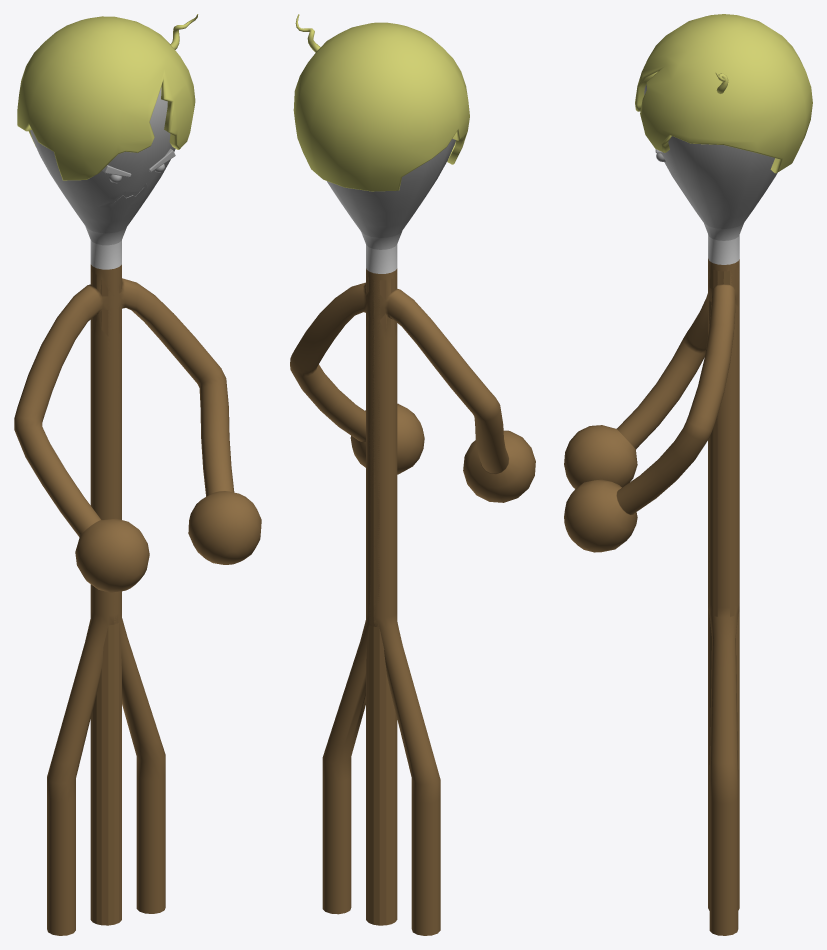
Rendered from Enemy_EarPick.fbx.
The picture shows the model from 3 angles, left to right: view 1: azimuth 30°, elevation 25°; view 2: azimuth 150°, elevation 25°; view 3: azimuth 270°, elevation 25°; orthographic projection.
Parts seen in each view (by area): view 1: Body, Hair, Just_EarPick; view 2: Body, Hair, Just_EarPick; view 3: Body, Hair, Just_EarPick.
Part boxes in pixels (left/top/right/bottom): Body: left=14, top=88, right=261, bottom=935; Hair: left=17, top=16, right=195, bottom=180; Just_EarPick: left=49, top=90, right=175, bottom=925; Body: left=290, top=138, right=535, bottom=935; Hair: left=293, top=22, right=469, bottom=191; Just_EarPick: left=327, top=165, right=430, bottom=925; Body: left=564, top=87, right=775, bottom=935; Hair: left=635, top=14, right=812, bottom=173; Just_EarPick: left=644, top=84, right=777, bottom=910.
Bounding box in the file's own units: 1.44 × 5.9 × 1.5.
